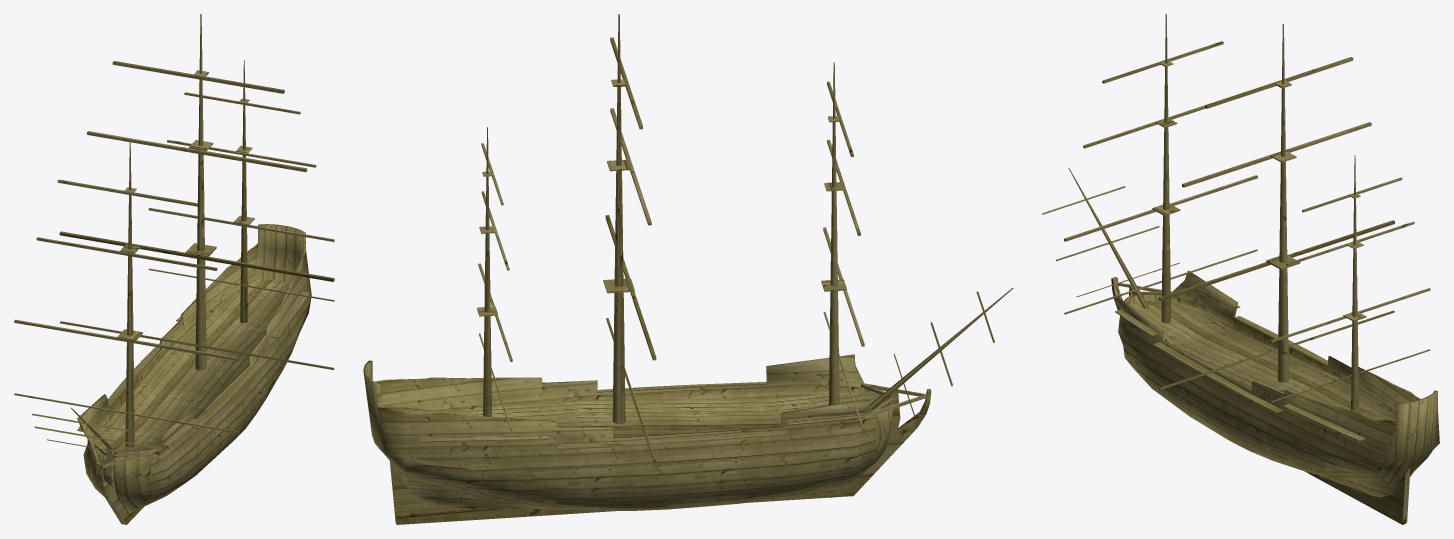
The model's file is ship.obj.
The picture shows the model from 3 angles, left to right: view 1: azimuth 30°, elevation 25°; view 2: azimuth 150°, elevation 25°; view 3: azimuth 270°, elevation 25°; orthographic projection. The views are drawn at different scales.
Parts seen in each view (by area): view 1: Mesh_Mesh.020_BezierCurve., Mesh.004_masts.000_Cylinder.00, Mesh.001_Mesh.021_Plane.017, Mesh.002_Mesh.023_Cube.009; view 2: Mesh_Mesh.020_BezierCurve., Mesh.004_masts.000_Cylinder.00, Mesh.002_Mesh.023_Cube.009, Mesh.001_Mesh.021_Plane.017; view 3: Mesh_Mesh.020_BezierCurve., Mesh.004_masts.000_Cylinder.00, Mesh.001_Mesh.021_Plane.017, Mesh.002_Mesh.023_Cube.009.
Boxes of the visible parts, left/top/right/bottom form: Mesh_Mesh.020_BezierCurve.: left=77, top=224, right=311, bottom=513; Mesh.004_masts.000_Cylinder.00: left=14, top=14, right=334, bottom=460; Mesh.001_Mesh.021_Plane.017: left=77, top=291, right=310, bottom=446; Mesh.002_Mesh.023_Cube.009: left=90, top=441, right=148, bottom=524; Mesh_Mesh.020_BezierCurve.: left=363, top=354, right=893, bottom=510; Mesh.004_masts.000_Cylinder.00: left=477, top=14, right=1013, bottom=461; Mesh.002_Mesh.023_Cube.009: left=390, top=383, right=931, bottom=524; Mesh.001_Mesh.021_Plane.017: left=420, top=374, right=864, bottom=449; Mesh_Mesh.020_BezierCurve.: left=1113, top=270, right=1439, bottom=497; Mesh.004_masts.000_Cylinder.00: left=1042, top=14, right=1430, bottom=411; Mesh.001_Mesh.021_Plane.017: left=1115, top=293, right=1365, bottom=441; Mesh.002_Mesh.023_Cube.009: left=1111, top=277, right=1410, bottom=524.
Bounding box in the file's own units: 2921 × 2941 × 2441.
Materials: 3 (3 with a texture image).
